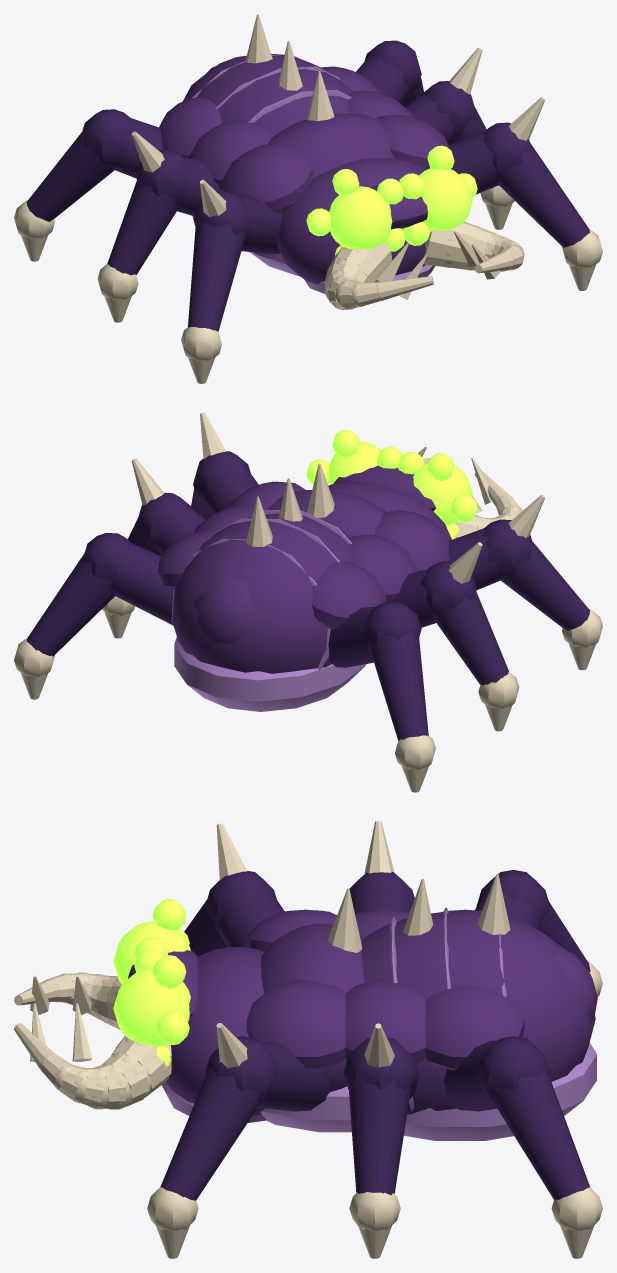
The model's file is skitter_rig.fbx.
3 views of the same model, one above another, from view 1: azimuth 30°, elevation 25°; view 2: azimuth 150°, elevation 25°; view 3: azimuth 270°, elevation 25° (orthographic). The views are drawn at different scales.
Parts seen in each view (by area): view 1: Body, Leg_1, Eye, Leg_2, Leg_4, Leg_6, Mandible_R, Leg_3, Mandible_L, Leg_5; view 2: Body, Leg_5, Leg_6, Leg_2, Leg_4, Eye, Leg_3, Leg_1, Mandible_R; view 3: Body, Leg_1, Leg_5, Leg_3, Eye, Mandible_L, Leg_2, Leg_6, Mandible_R, Leg_4.
Boxes of the visible parts, x1=… form: Body: x1=159, y1=14, x2=449, y2=293; Leg_1: x1=448, y1=97, x2=602, y2=290; Eye: x1=306, y1=145, x2=477, y2=255; Leg_2: x1=181, y1=179, x2=282, y2=383; Leg_4: x1=97, y1=131, x2=223, y2=322; Leg_6: x1=14, y1=109, x2=163, y2=261; Mandible_R: x1=324, y1=242, x2=433, y2=309; Leg_3: x1=405, y1=48, x2=514, y2=229; Mandible_L: x1=423, y1=221, x2=524, y2=279; Leg_5: x1=356, y1=40, x2=423, y2=106; Body: x1=158, y1=463, x2=451, y2=711; Leg_5: x1=14, y1=533, x2=173, y2=699; Leg_6: x1=328, y1=601, x2=435, y2=792; Leg_2: x1=448, y1=494, x2=602, y2=670; Leg_4: x1=393, y1=542, x2=519, y2=731; Eye: x1=306, y1=430, x2=477, y2=539; Leg_3: x1=102, y1=458, x2=205, y2=638; Leg_1: x1=191, y1=412, x2=258, y2=519; Mandible_R: x1=446, y1=458, x2=522, y2=538; Body: x1=128, y1=873, x2=597, y2=1140; Leg_1: x1=147, y1=1023, x2=331, y2=1258; Leg_5: x1=443, y1=1036, x2=602, y2=1258; Leg_3: x1=343, y1=1023, x2=419, y2=1258; Eye: x1=113, y1=899, x2=190, y2=1066; Mandible_L: x1=14, y1=1003, x2=171, y2=1109; Leg_2: x1=184, y1=823, x2=284, y2=956; Leg_6: x1=475, y1=870, x2=602, y2=996; Mandible_R: x1=14, y1=972, x2=121, y2=1030; Leg_4: x1=349, y1=821, x2=414, y2=914.
Bounding box in the file's own units: 5.48 × 2.8 × 5.53.
Materials: 2 (1 with a texture image).
